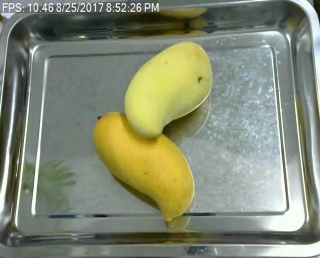Mango: (89, 107, 201, 221), (125, 41, 218, 137)
